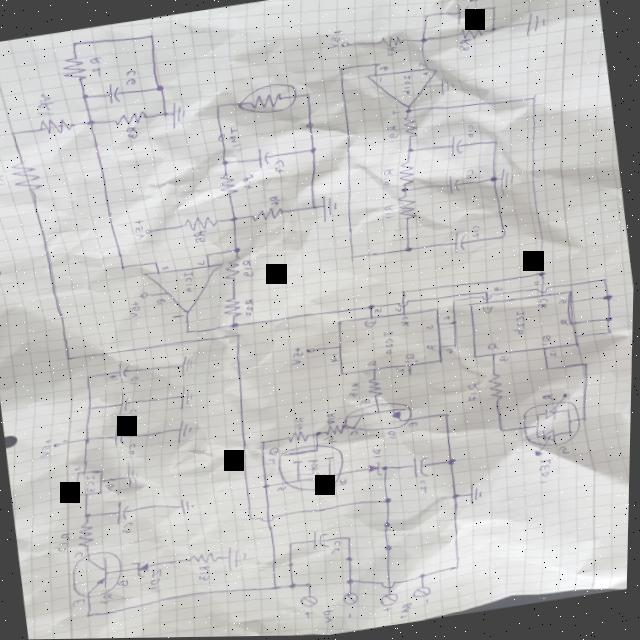capacitor: (108, 362, 133, 385), (310, 530, 334, 553), (113, 500, 134, 526), (412, 456, 431, 481), (111, 424, 130, 449), (450, 232, 470, 255), (105, 81, 123, 106), (114, 392, 133, 415), (452, 5, 471, 28), (255, 148, 273, 169), (448, 136, 465, 158), (445, 176, 462, 196)
crossover: (382, 581, 400, 591), (260, 516, 277, 524), (396, 301, 411, 310), (536, 287, 550, 295), (481, 295, 495, 303)
diode: (518, 392, 585, 460), (131, 560, 153, 581), (366, 461, 385, 480)
ground: (225, 545, 250, 573), (122, 460, 145, 490), (522, 13, 547, 38), (497, 168, 516, 199), (174, 419, 196, 445), (168, 100, 186, 131), (319, 195, 339, 222), (178, 385, 195, 411), (468, 484, 487, 506), (178, 355, 196, 377), (438, 78, 456, 98), (179, 498, 198, 516)
junction: (271, 585, 284, 593), (451, 494, 462, 502), (289, 582, 300, 590), (447, 460, 458, 468), (402, 108, 414, 115), (159, 111, 169, 119), (228, 217, 239, 224), (383, 498, 394, 505), (603, 318, 614, 325), (230, 323, 241, 330), (403, 247, 414, 254), (346, 579, 357, 586), (418, 574, 429, 581), (84, 612, 95, 619), (366, 305, 377, 312), (418, 39, 428, 46), (83, 437, 93, 444), (487, 27, 497, 34), (232, 248, 242, 255), (537, 273, 547, 280), (287, 563, 297, 570), (287, 542, 296, 549), (604, 295, 613, 302), (529, 96, 538, 103), (64, 439, 73, 446), (155, 85, 164, 92), (384, 521, 393, 528), (303, 93, 312, 100), (70, 41, 79, 47), (405, 149, 414, 155), (85, 120, 94, 126), (118, 265, 127, 271), (490, 141, 499, 147), (306, 583, 315, 589), (382, 466, 391, 472), (80, 94, 89, 100), (450, 321, 459, 327), (263, 484, 273, 489), (220, 160, 227, 167), (309, 147, 316, 154), (84, 513, 93, 518), (444, 413, 451, 419), (8, 131, 16, 136), (400, 291, 408, 296), (421, 15, 429, 20), (213, 104, 221, 109), (185, 330, 193, 335), (372, 64, 380, 69), (400, 189, 408, 194), (348, 558, 356, 563), (260, 441, 268, 446), (582, 364, 590, 369), (489, 7, 496, 12), (66, 357, 73, 362), (455, 567, 462, 572), (602, 279, 609, 284), (337, 68, 344, 73), (498, 429, 505, 434), (545, 368, 552, 373), (583, 418, 590, 423), (205, 254, 212, 259), (490, 179, 497, 184), (146, 34, 152, 39), (86, 375, 92, 380), (349, 256, 355, 261), (249, 517, 255, 522), (88, 407, 94, 412), (236, 334, 242, 339), (453, 345, 459, 350), (501, 235, 507, 240), (483, 292, 489, 297), (607, 332, 613, 337), (386, 547, 393, 551)
resistor: (234, 80, 302, 120), (11, 157, 42, 192), (60, 55, 89, 83), (180, 214, 219, 234), (111, 110, 149, 128), (37, 117, 73, 136), (395, 195, 419, 223), (187, 550, 222, 568), (395, 162, 417, 190), (486, 373, 506, 403), (221, 256, 243, 282), (221, 298, 244, 321), (76, 522, 96, 548), (217, 173, 238, 197), (400, 115, 419, 141), (456, 26, 485, 43), (251, 209, 284, 223), (377, 35, 406, 50), (366, 378, 384, 400), (287, 431, 310, 446), (326, 426, 345, 436)
terminal: (380, 594, 402, 609), (413, 586, 434, 601), (343, 593, 361, 607), (301, 596, 320, 608), (305, 348, 318, 356), (215, 134, 226, 143), (339, 42, 350, 49), (52, 442, 63, 449), (140, 292, 149, 299), (305, 123, 314, 130), (144, 229, 152, 235), (408, 373, 414, 378)
text: (536, 460, 557, 488), (33, 93, 54, 117), (381, 330, 399, 356), (512, 312, 530, 338), (87, 56, 106, 79), (56, 531, 75, 553), (179, 272, 197, 295), (325, 30, 344, 51), (148, 569, 166, 590), (466, 382, 483, 404), (38, 438, 56, 458), (197, 565, 215, 584), (289, 347, 306, 367), (378, 169, 395, 189), (226, 127, 241, 149), (398, 604, 416, 622), (455, 38, 474, 55), (399, 75, 414, 96), (127, 301, 143, 319), (266, 447, 282, 465), (402, 353, 422, 367), (132, 220, 145, 241), (380, 206, 396, 223), (122, 70, 138, 87), (243, 299, 257, 318), (241, 260, 255, 279), (322, 610, 338, 626), (383, 125, 400, 140), (85, 474, 98, 493), (348, 384, 363, 400), (240, 175, 254, 192), (330, 540, 344, 557), (192, 231, 209, 245), (540, 335, 555, 350), (399, 316, 415, 330), (272, 160, 286, 175), (293, 418, 307, 433), (121, 521, 136, 535), (124, 126, 138, 141), (536, 299, 552, 312), (325, 413, 339, 427), (417, 480, 430, 495), (372, 448, 385, 462), (470, 226, 482, 241), (101, 593, 116, 605), (424, 344, 439, 356), (321, 436, 338, 446), (480, 306, 497, 316), (126, 408, 139, 421), (267, 196, 281, 208), (464, 126, 476, 140), (385, 47, 399, 59), (363, 320, 379, 330), (127, 443, 139, 456), (424, 323, 437, 335), (73, 598, 88, 608), (129, 376, 142, 387), (387, 431, 399, 442), (464, 170, 475, 182), (118, 579, 131, 589), (367, 360, 380, 370), (486, 344, 499, 354), (557, 319, 570, 329), (541, 395, 556, 403), (275, 486, 290, 494), (377, 65, 390, 74), (408, 423, 422, 431), (329, 354, 340, 364), (304, 611, 316, 620), (491, 286, 504, 294), (359, 399, 372, 407), (444, 349, 457, 357), (156, 298, 169, 306), (557, 299, 570, 307), (549, 350, 559, 360), (560, 447, 571, 456), (395, 368, 406, 377), (0, 174, 7, 187), (105, 484, 118, 491), (74, 551, 85, 559), (374, 308, 385, 316), (499, 357, 511, 364), (171, 314, 185, 320), (159, 265, 170, 272), (339, 480, 350, 487), (196, 260, 207, 267), (350, 431, 361, 438), (466, 0, 481, 5), (416, 63, 426, 70), (532, 282, 541, 289), (444, 316, 453, 323), (348, 613, 356, 620), (425, 599, 433, 606), (385, 608, 396, 613), (74, 466, 83, 472), (394, 309, 403, 315), (376, 78, 385, 84), (422, 72, 429, 79), (72, 499, 80, 505), (363, 372, 372, 377), (391, 111, 400, 116)
transistor: (277, 441, 351, 499), (69, 549, 128, 601), (342, 399, 418, 437)
